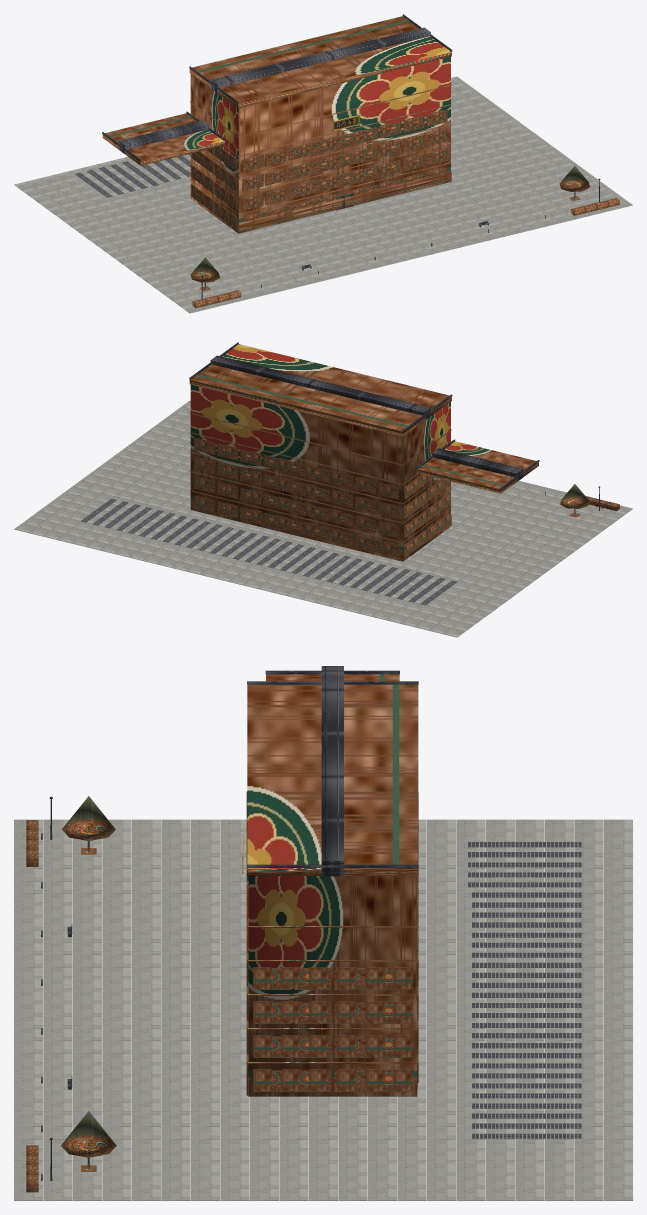
3 renders of one model, top to bottom at view 1: azimuth 30°, elevation 25°; view 2: azimuth 150°, elevation 25°; view 3: azimuth 270°, elevation 25°, orthographic. The views are drawn at different scales.
Parts seen in each view (by area): view 1: 11680_01_06223_017_01__plinth_ground_base, 11680_01_06223_017_02__mass_body_facade, 11680_01_06223_017_05__window_sash_glass, 11680_01_06223_017_03__roof_metal_ornament, 11680_01_06223_017_06__landscape_greenery, 11680_01_06223_017_03__roof_deck_structure; view 2: 11680_01_06223_017_01__plinth_ground_base, 11680_01_06223_017_02__mass_body_facade, 11680_01_06223_017_03__roof_deck_structure, 11680_01_06223_017_03__roof_metal_ornament, 11680_01_06223_017_06__landscape_greenery; view 3: 11680_01_06223_017_01__plinth_ground_base, 11680_01_06223_017_02__mass_body_facade, 11680_01_06223_017_03__roof_deck_structure, 11680_01_06223_017_03__roof_metal_ornament, 11680_01_06223_017_06__landscape_greenery.
Part boxes in pixels (box(x1,y1,x2,y2)): 11680_01_06223_017_01__plinth_ground_base: box(14, 76, 632, 313); 11680_01_06223_017_02__mass_body_facade: box(102, 16, 451, 233); 11680_01_06223_017_05__window_sash_glass: box(247, 110, 442, 221); 11680_01_06223_017_03__roof_metal_ornament: box(102, 14, 452, 161); 11680_01_06223_017_06__landscape_greenery: box(190, 166, 619, 308); 11680_01_06223_017_03__roof_deck_structure: box(75, 153, 190, 197); 11680_01_06223_017_01__plinth_ground_base: box(14, 400, 632, 637); 11680_01_06223_017_02__mass_body_facade: box(189, 344, 538, 561); 11680_01_06223_017_03__roof_deck_structure: box(81, 498, 457, 605); 11680_01_06223_017_03__roof_metal_ornament: box(189, 342, 539, 489); 11680_01_06223_017_06__landscape_greenery: box(190, 412, 619, 517); 11680_01_06223_017_01__plinth_ground_base: box(14, 819, 632, 1200); 11680_01_06223_017_02__mass_body_facade: box(246, 674, 418, 1096); 11680_01_06223_017_03__roof_deck_structure: box(468, 842, 581, 1138); 11680_01_06223_017_03__roof_metal_ornament: box(247, 666, 418, 876); 11680_01_06223_017_06__landscape_greenery: box(26, 796, 116, 1192).
Size of the model in its own units: 95.95 by 28.4 by 65.95.
Materials: 7 (7 with a texture image).
